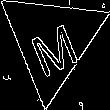M_NW: (23, 8, 80, 74)
